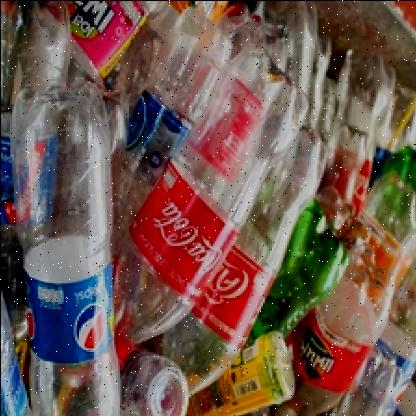Plastic Bottle: (2, 2, 414, 416), (110, 3, 310, 355), (150, 129, 326, 401), (9, 2, 119, 416), (276, 106, 416, 416)
